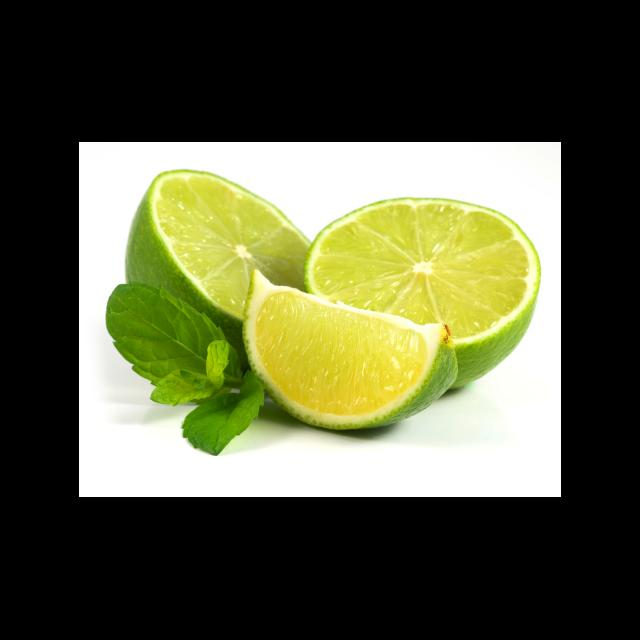lime: (300, 191, 544, 399), (229, 264, 463, 438), (117, 167, 315, 369)
